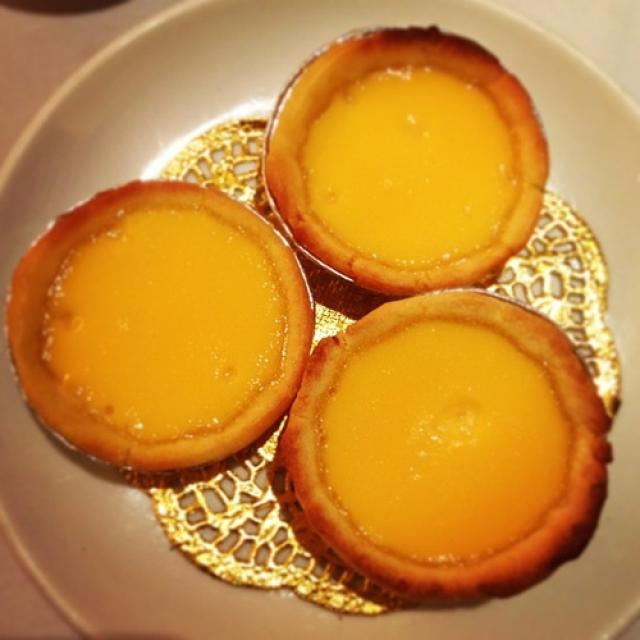炸货点心: (9, 10, 626, 618)
蛋糕甜品: (9, 10, 626, 618)
